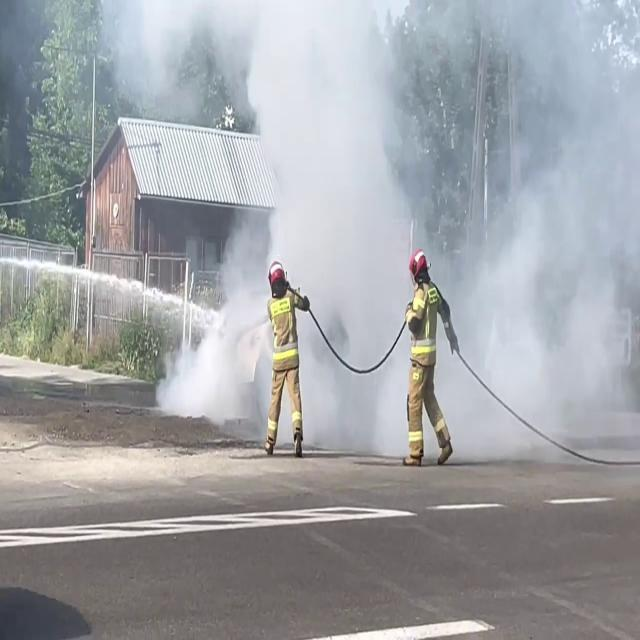Smoke: (160, 0, 640, 450)
